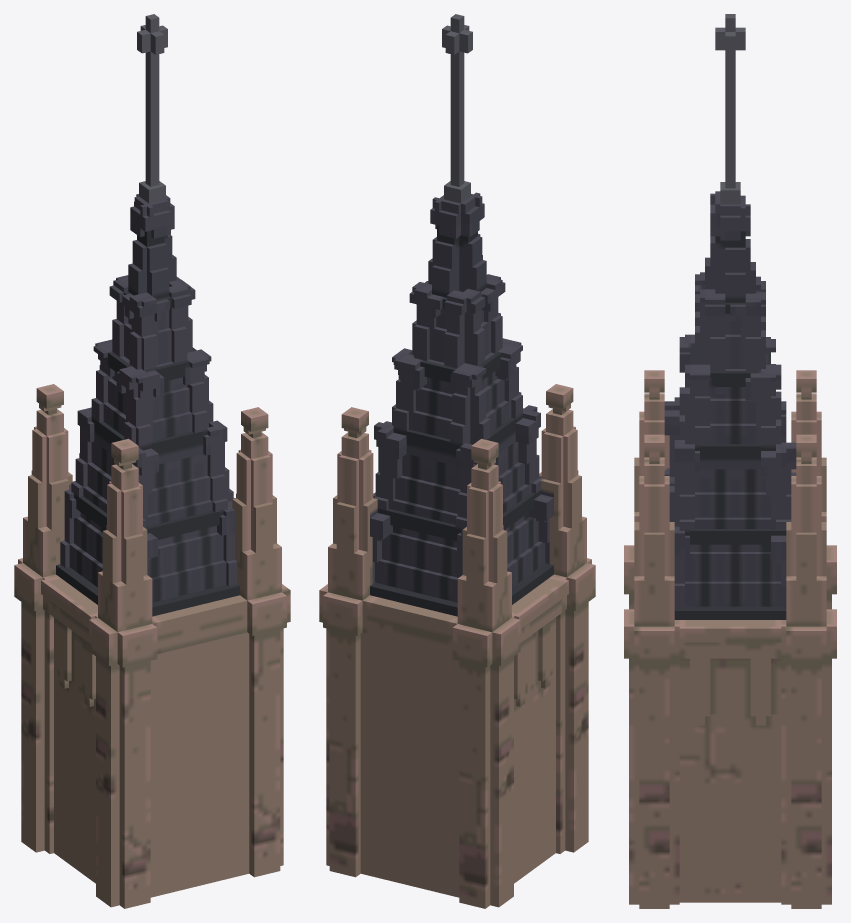
The model's file is Tower-0.fbx.
3 renders of one model, left to right at view 1: azimuth 30°, elevation 25°; view 2: azimuth 150°, elevation 25°; view 3: azimuth 270°, elevation 25°, orthographic.
Parts seen in each view (by area): view 1: Tower-0; view 2: Tower-0; view 3: Tower-0.
Part boxes in pixels (<box>): Tower-0: <box>14,14,290,908</box>; Tower-0: <box>319,14,595,908</box>; Tower-0: <box>624,14,836,908</box>.
Bounding box in the file's own units: 210 × 925 × 210.
